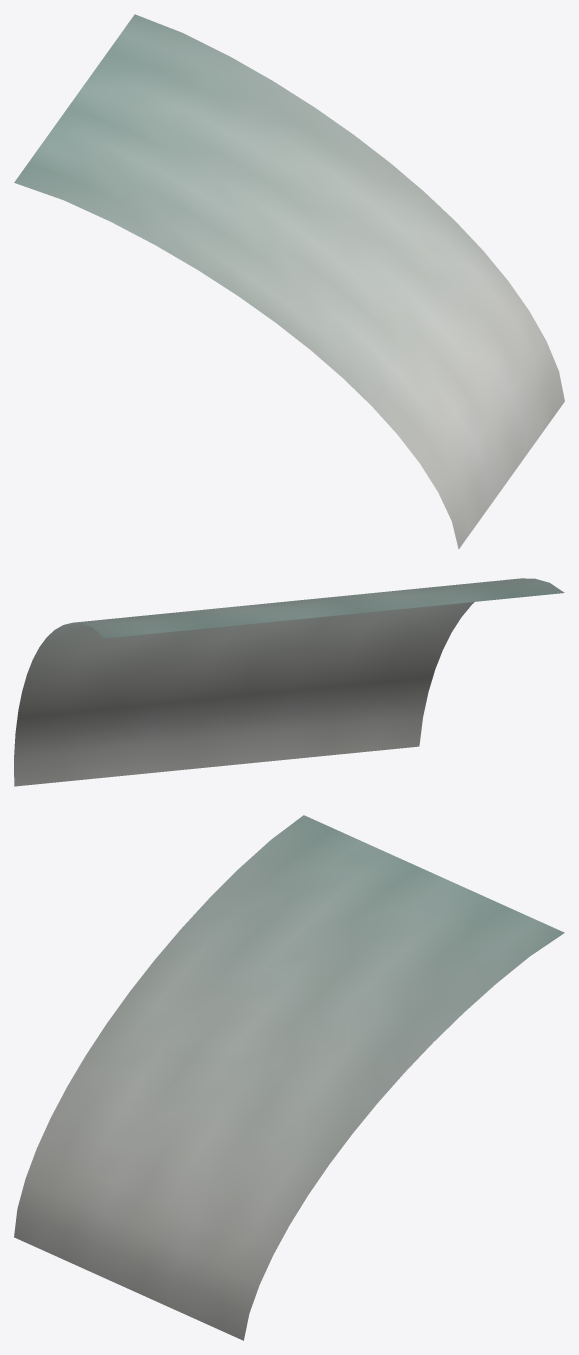
File: SM_BM_BC_Waterfall.glb
3 views of the same model, one above another, from view 1: azimuth 30°, elevation 25°; view 2: azimuth 150°, elevation 25°; view 3: azimuth 270°, elevation 25° (orthographic). The views are drawn at different scales.
Parts seen in each view (by area): view 1: SM_BM_BC_Waterfall; view 2: SM_BM_BC_Waterfall; view 3: SM_BM_BC_Waterfall.
Boxes of the visible parts, bbox=[...] form: SM_BM_BC_Waterfall: bbox=[14, 14, 564, 549]; SM_BM_BC_Waterfall: bbox=[14, 578, 564, 786]; SM_BM_BC_Waterfall: bbox=[14, 815, 564, 1340].
Bounding box in the file's own units: 28.72 × 17 × 28.86.
